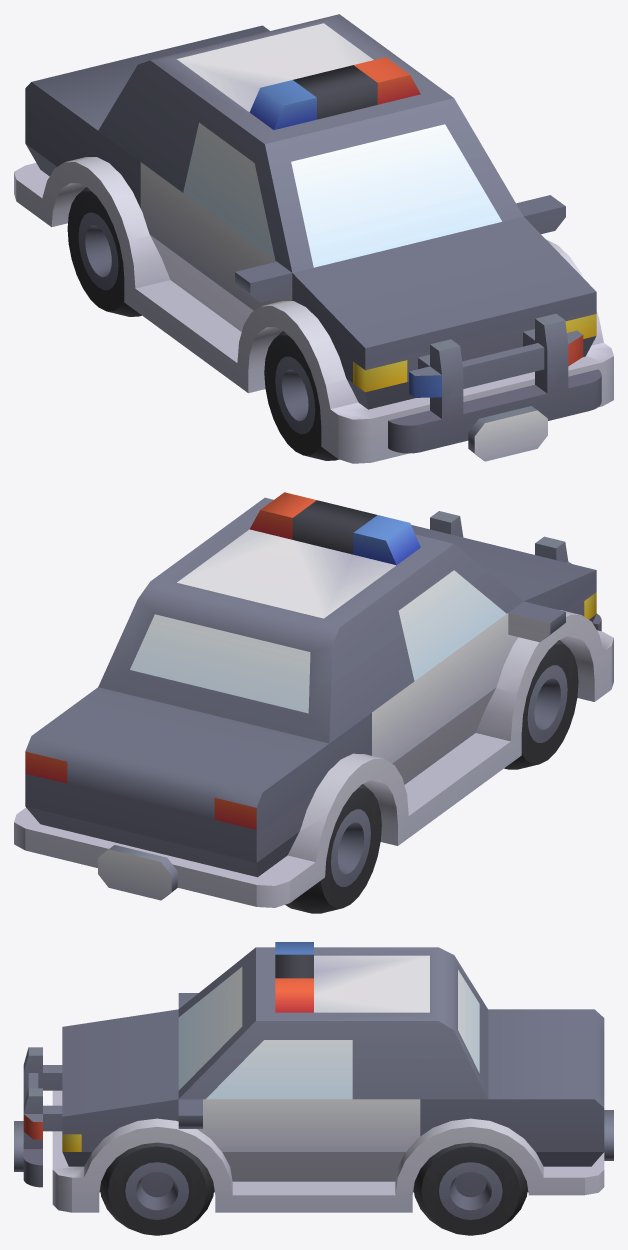
Rendered from polisbil.glb.
The picture shows the model from 3 angles, top to bottom: view 1: azimuth 30°, elevation 25°; view 2: azimuth 150°, elevation 25°; view 3: azimuth 270°, elevation 25°; orthographic projection. The views are drawn at different scales.
Visible parts, largest first — view 1: body, grill, wheel-front-right, wheel-back-right; view 2: body, wheel-back-right, wheel-front-right, grill; view 3: body, wheel-front-left, wheel-back-left, grill.
Part boxes in pixels (x1,y1,x2,y2): body: [14, 14, 613, 463]; grill: [388, 313, 601, 461]; wheel-front-right: [264, 331, 339, 460]; wheel-back-right: [67, 187, 141, 316]; body: [14, 492, 613, 907]; wheel-back-right: [285, 784, 381, 913]; wheel-front-right: [504, 640, 578, 769]; grill: [430, 511, 601, 631]; body: [52, 942, 613, 1212]; wheel-front-left: [100, 1142, 214, 1235]; wheel-back-left: [413, 1142, 527, 1235]; grill: [14, 1047, 62, 1187].
Bounding box in the file's own units: 1.5 × 1.3 × 3.1.
1 material, 1 textured.
